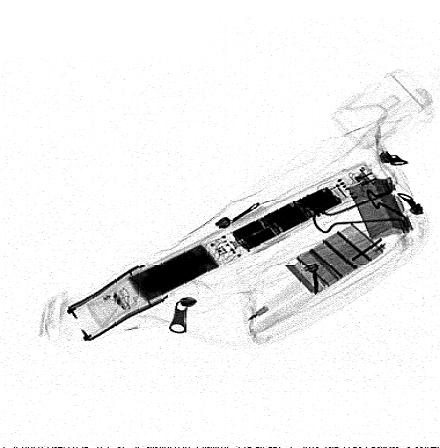Baton: (63, 161, 384, 344)
